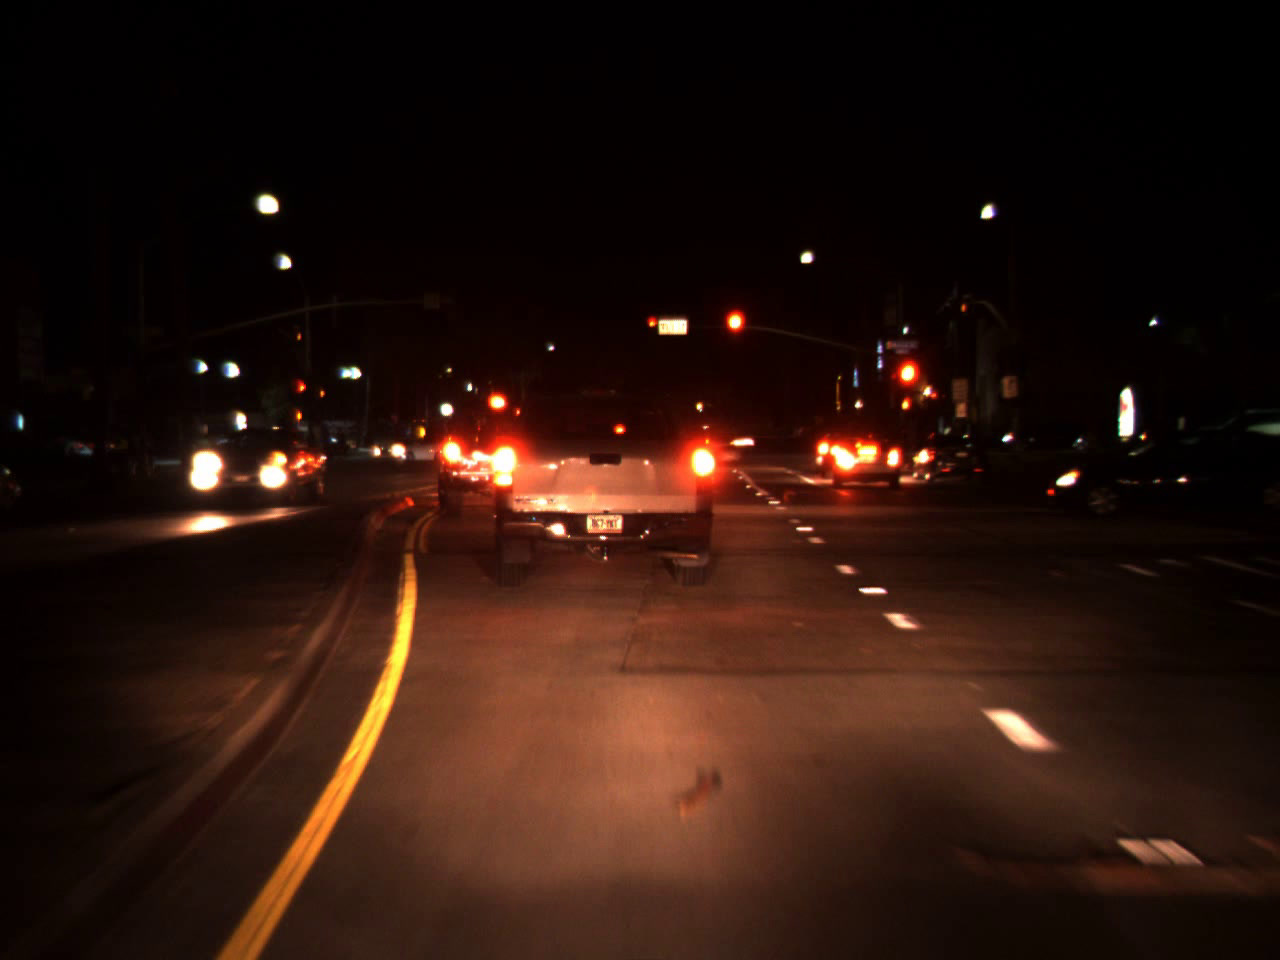stop: (893, 354, 923, 421), (722, 307, 747, 361), (645, 316, 660, 337), (296, 379, 308, 403)
